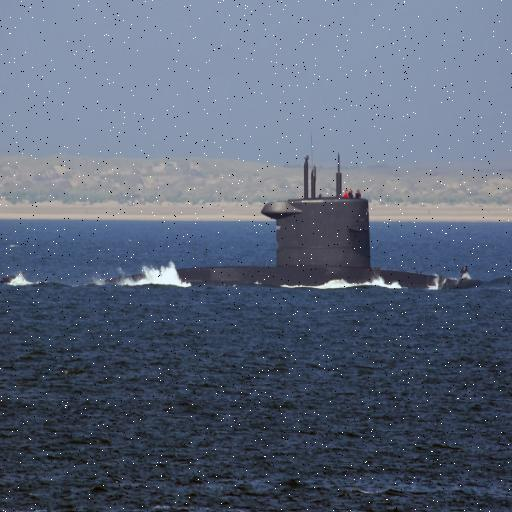submarine: (8, 147, 491, 289)
